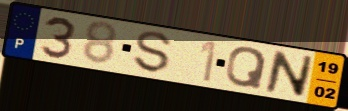1: (199, 39, 219, 85)
3: (37, 15, 77, 60)
8: (79, 21, 122, 68)
N: (262, 49, 316, 100)
Q: (224, 45, 269, 91)
S: (133, 30, 174, 76)
